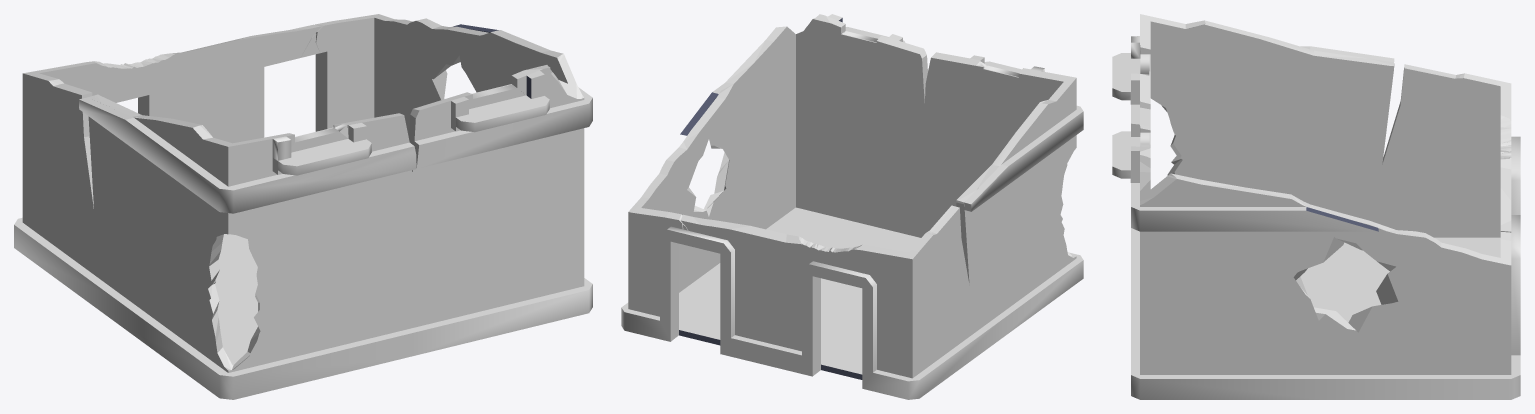
File: ruins1.glb
The picture shows the model from 3 angles, left to right: view 1: azimuth 30°, elevation 25°; view 2: azimuth 150°, elevation 25°; view 3: azimuth 270°, elevation 25°; orthographic projection. The views are drawn at different scales.
Parts seen in each view (by area): view 1: ruins_outline; view 2: ruins_outline, small_buildingD1; view 3: ruins_outline.
Boxes of the visible parts, x1,y1,x2,y2 form: ruins_outline: (14,14,592,399); ruins_outline: (621,14,1083,399); small_buildingD1: (679,18,862,379); ruins_outline: (1112,14,1520,399).
Bounding box in the file's own units: 0.8389 × 0.538 × 0.8794.
Materials: 2 (1 with a texture image).
